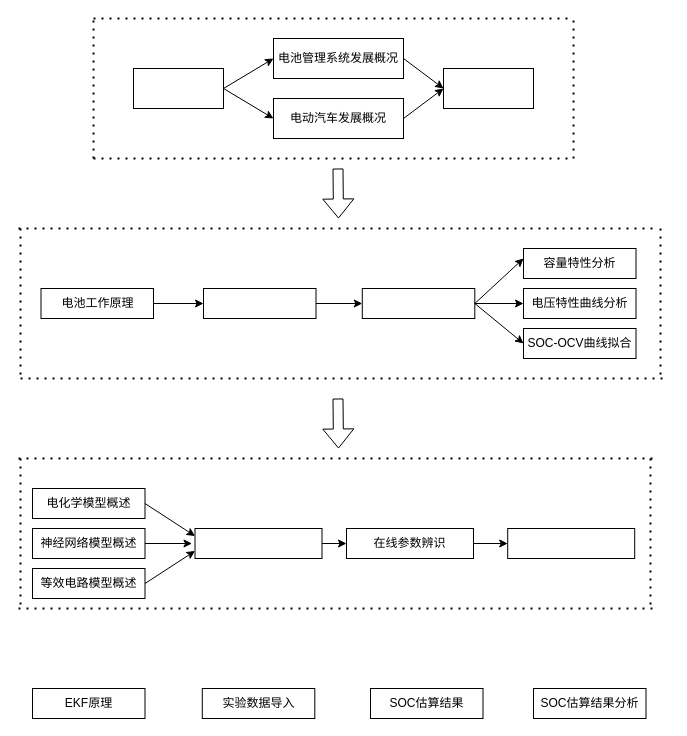
Some shapes in this 687 by 736 pixel diagram are drawn without their labels. The shapes that lost their labels are listed below. From the top down, each one's centre as x and y in pixels, then its label:
At (178,88): "选题背景与意义".
At (488,88): "SOC研究现状".
At (259,303): "电池性能实验".
At (418,303): "电池性能分析".
At (258,543): "一阶RC等效电路模型".
At (571,543): "模型精度验证".
